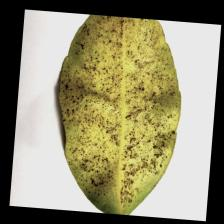canker: (56, 34, 181, 190)
